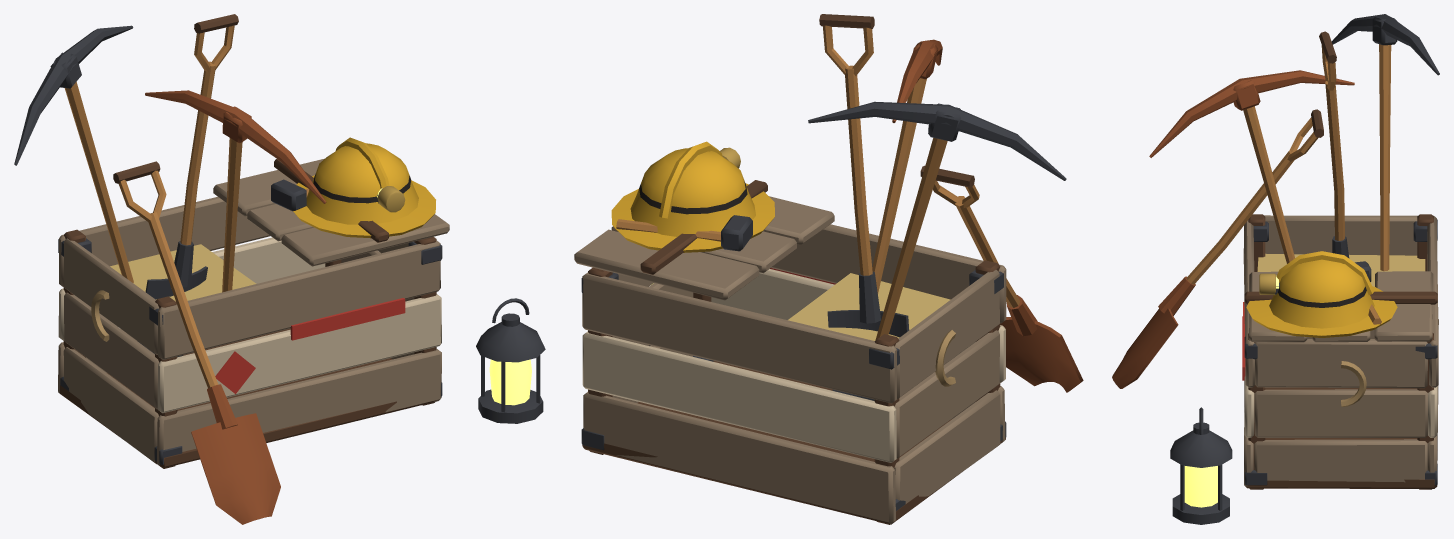
The model's file is deco_mining_tool_crate.fbx.
3 views of the same model, side by side, from view 1: azimuth 30°, elevation 25°; view 2: azimuth 150°, elevation 25°; view 3: azimuth 270°, elevation 25° (orthographic). The views are drawn at different scales.
Parts seen in each view (by area): view 1: MiningToolCrate_Crate, MiningToolCrate_Tools, MiningToolCrate_Helmet, MiningToolCrate_Lamp; view 2: MiningToolCrate_Crate, MiningToolCrate_Tools, MiningToolCrate_Helmet; view 3: MiningToolCrate_Crate, MiningToolCrate_Tools, MiningToolCrate_Helmet, MiningToolCrate_Lamp.
Part boxes in pixels (left/top/right/bottom): MiningToolCrate_Crate: left=58, top=158, right=449, bottom=468; MiningToolCrate_Tools: left=14, top=14, right=326, bottom=524; MiningToolCrate_Helmet: left=293, top=137, right=435, bottom=238; MiningToolCrate_Lamp: left=476, top=298, right=545, bottom=423; MiningToolCrate_Crate: left=574, top=180, right=1006, bottom=524; MiningToolCrate_Tools: left=616, top=14, right=1083, bottom=400; MiningToolCrate_Helmet: left=611, top=141, right=774, bottom=252; MiningToolCrate_Crate: left=1242, top=214, right=1438, bottom=489; MiningToolCrate_Tools: left=1112, top=14, right=1439, bottom=388; MiningToolCrate_Helmet: left=1246, top=251, right=1397, bottom=337; MiningToolCrate_Lamp: left=1170, top=407, right=1232, bottom=524.
Size of the model in its own units: 202 by 171 by 136.
